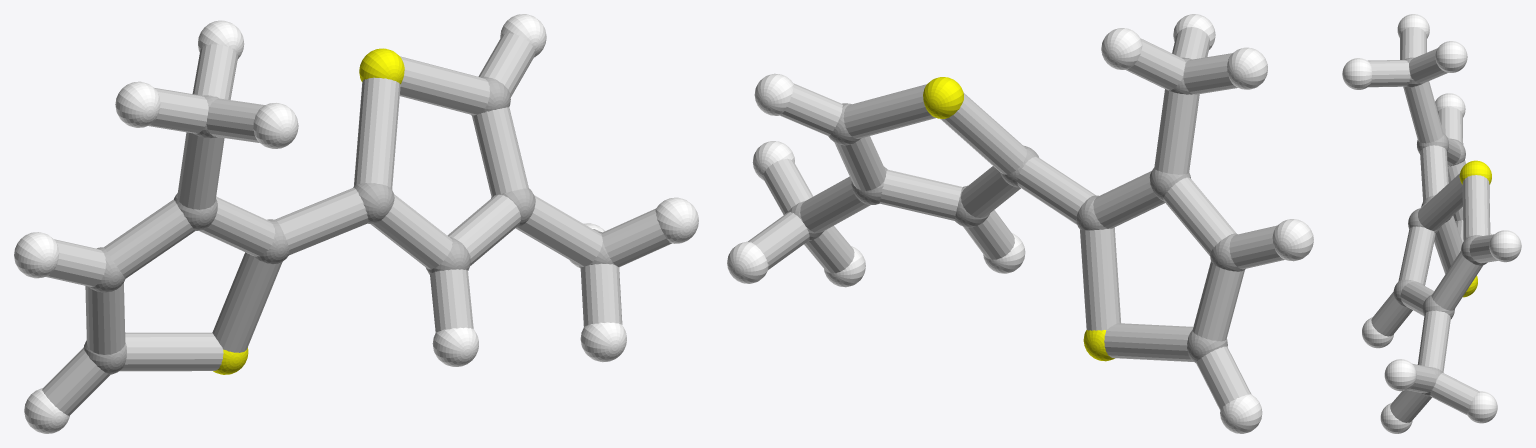
The model's file is Methylthiophene_Phi_30_Theta_320_Methylthiophene.glb.
3 views of the same model, side by side, from view 1: azimuth 30°, elevation 25°; view 2: azimuth 150°, elevation 25°; view 3: azimuth 270°, elevation 25° (orthographic). The views are drawn at different scales.
Visible parts, largest first — view 1: grp7965, grp3621, grp1, grp7241; view 2: grp7965, grp3621, grp1, grp7241; view 3: grp7965, grp3621, grp1, grp7241.
Part boxes in pixels (x1=…): grp7965: x1=42, y1=33, x2=671, y2=415; grp3621: x1=14, y1=14, x2=698, y2=433; grp1: x1=83, y1=76, x2=614, y2=374; grp7241: x1=213, y1=48, x2=404, y2=374; grp7965: x1=748, y1=27, x2=1284, y2=409; grp3621: x1=727, y1=14, x2=1313, y2=433; grp1: x1=788, y1=57, x2=1245, y2=362; grp7241: x1=923, y1=77, x2=1114, y2=361; grp7965: x1=1367, y1=27, x2=1498, y2=422; grp3621: x1=1342, y1=14, x2=1521, y2=433; grp1: x1=1393, y1=57, x2=1487, y2=396; grp7241: x1=1459, y1=160, x2=1491, y2=297.
Size of the model in its own units: 9.6 by 5.59 by 3.32.
